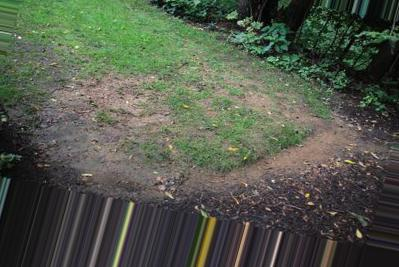patch: (263, 173, 353, 221), (75, 127, 133, 182), (87, 97, 164, 133), (293, 139, 331, 164)
